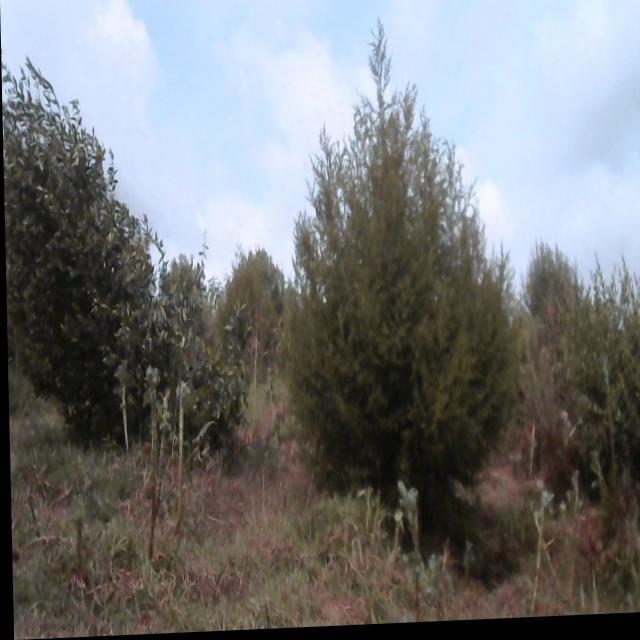Salix alba: (1, 51, 152, 438), (110, 214, 247, 449), (549, 261, 640, 506)
cedrus: (284, 81, 522, 545), (213, 238, 279, 379), (521, 236, 574, 354)
